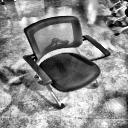chair_success: (20, 14, 112, 111)
